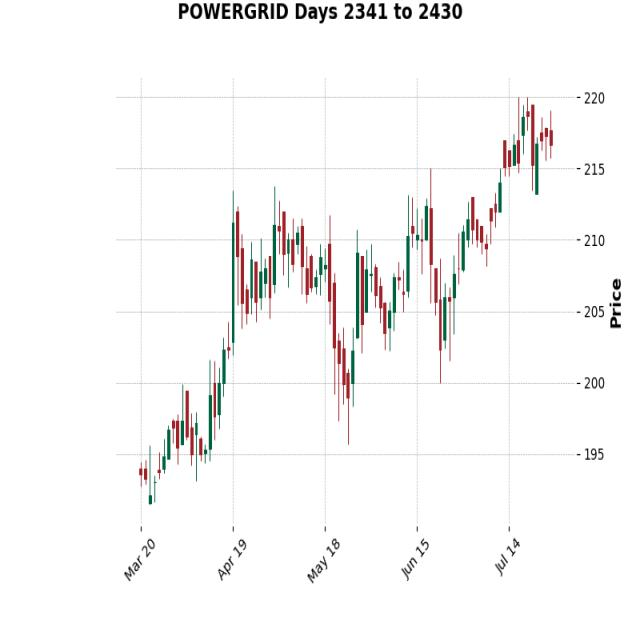Cup and Handle: (267, 126, 522, 417)
